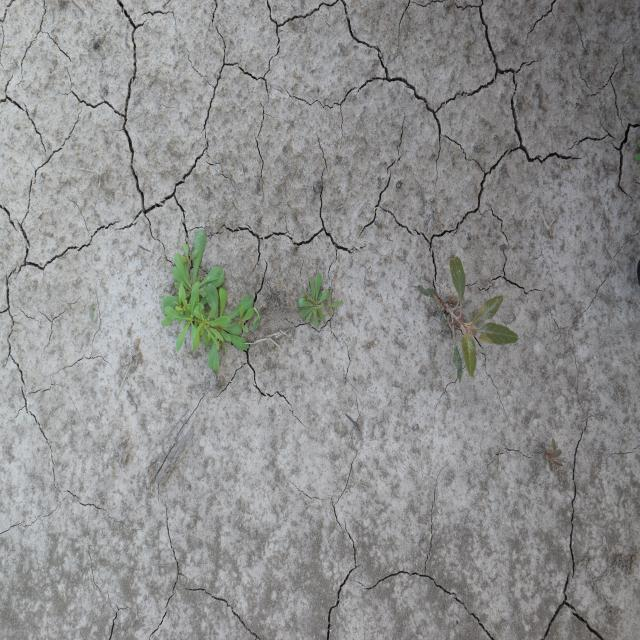Carpetweed: (160, 227, 262, 373), (296, 272, 345, 330)
Waterhemp: (417, 255, 520, 384)
